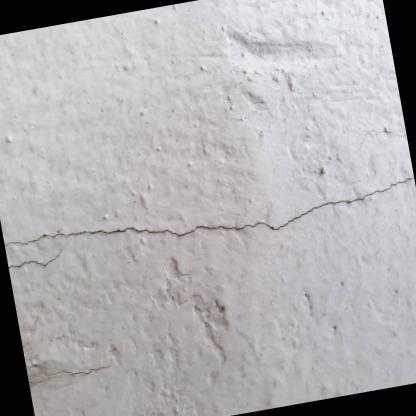crack: (3, 174, 414, 248), (7, 248, 61, 269), (44, 364, 107, 375)
